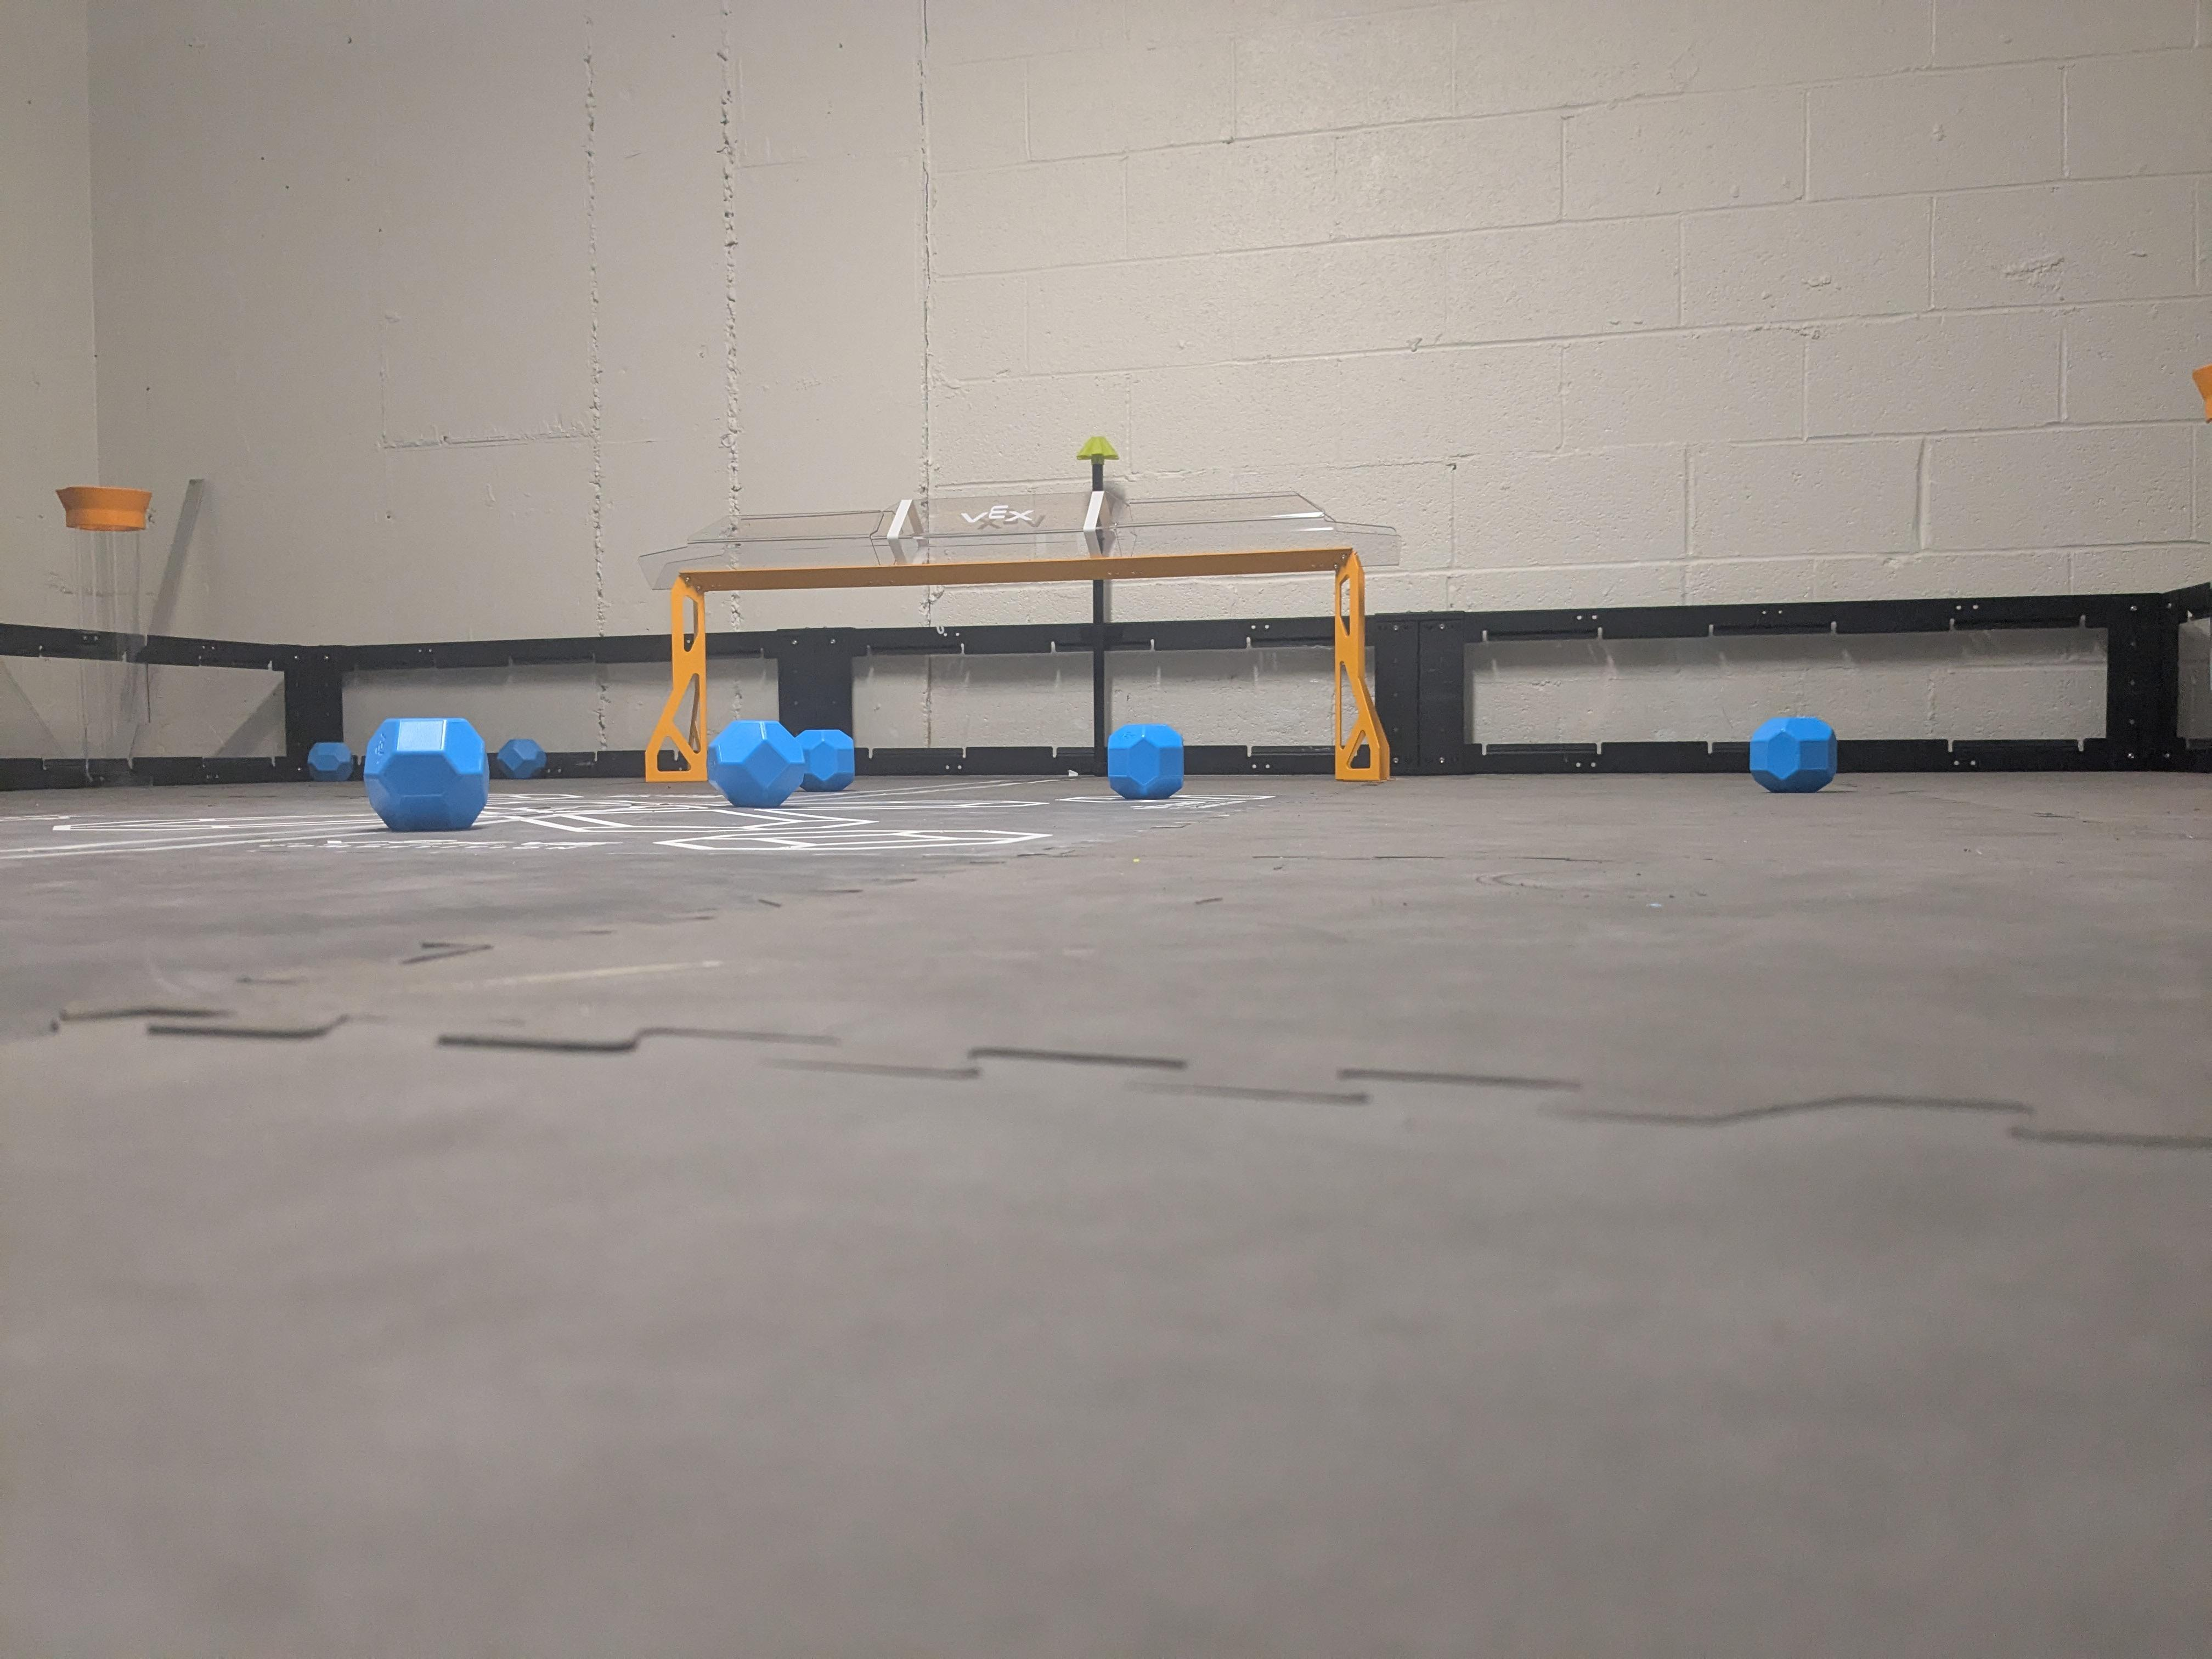Vex-Pieces-BLUE: (362, 718, 491, 826), (709, 723, 853, 805), (1749, 718, 1834, 793), (1106, 725, 1184, 795), (493, 737, 547, 779), (307, 741, 354, 781)
